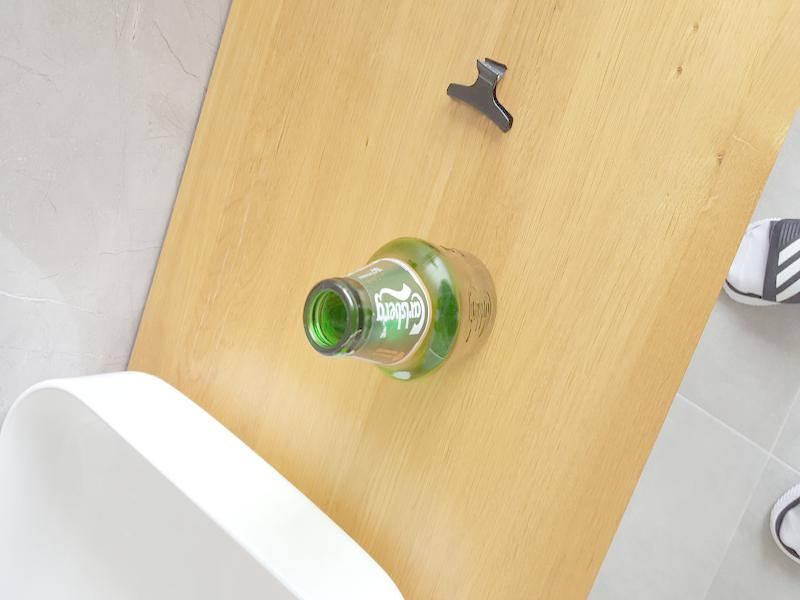Beer: (304, 237, 496, 383)
